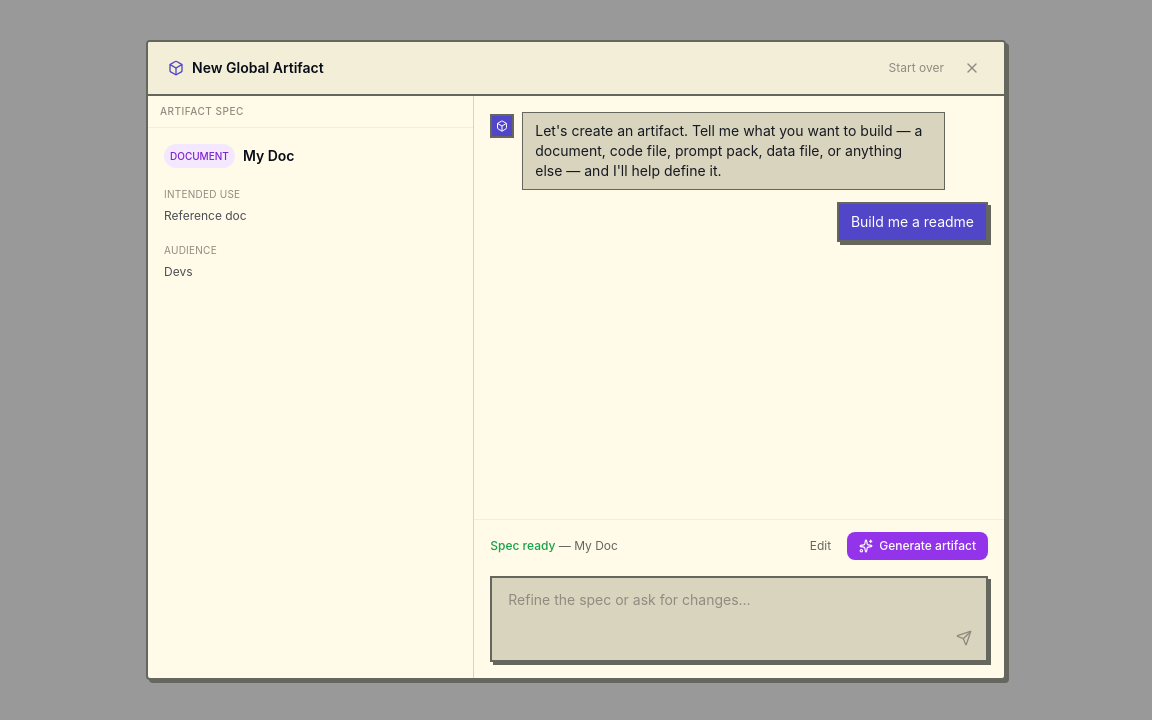
it: ArtifactGeneratorModal › renders DoneOverlay with "Generate another" and "Done" buttons when isDone
Expected: the text "Spec ready" is shown, [490, 538, 555, 553]
Click the button "Generate artifact" at (918, 546), box [847, 532, 988, 560]
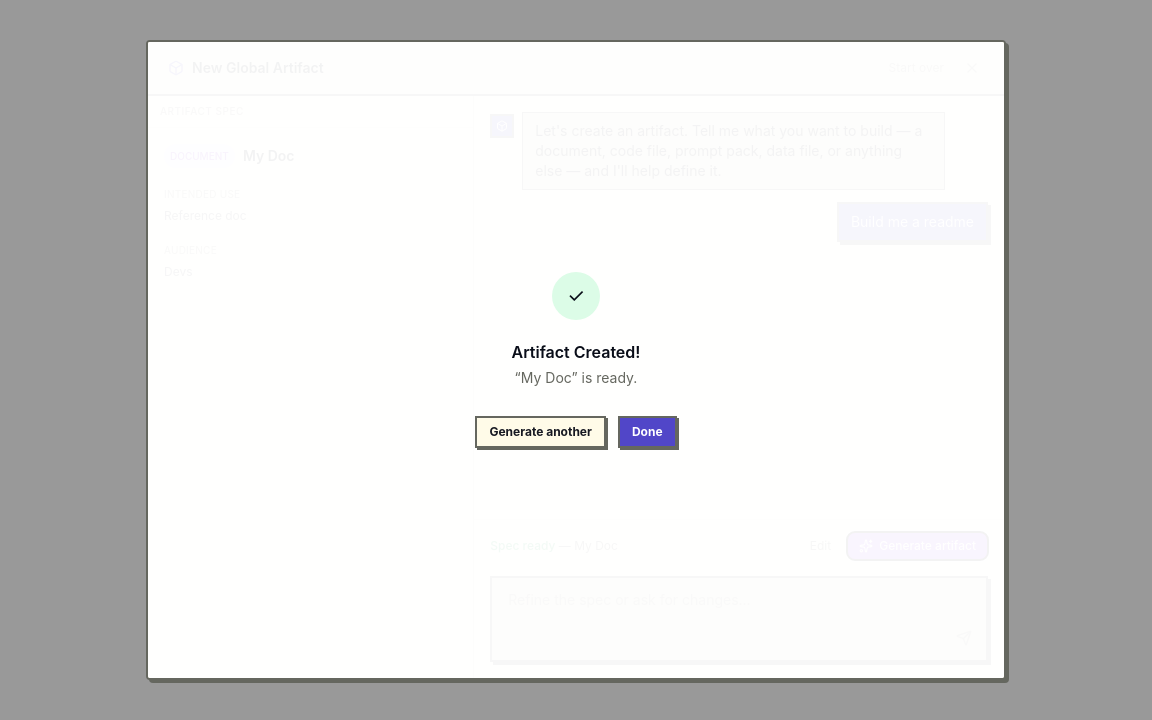
Expected: the text "Artifact Created!" is shown, [512, 340, 640, 364]
Expected: the button "Generate another" is shown, [475, 416, 606, 448]
Expected: the button "Done" is shown, [618, 416, 677, 448]
